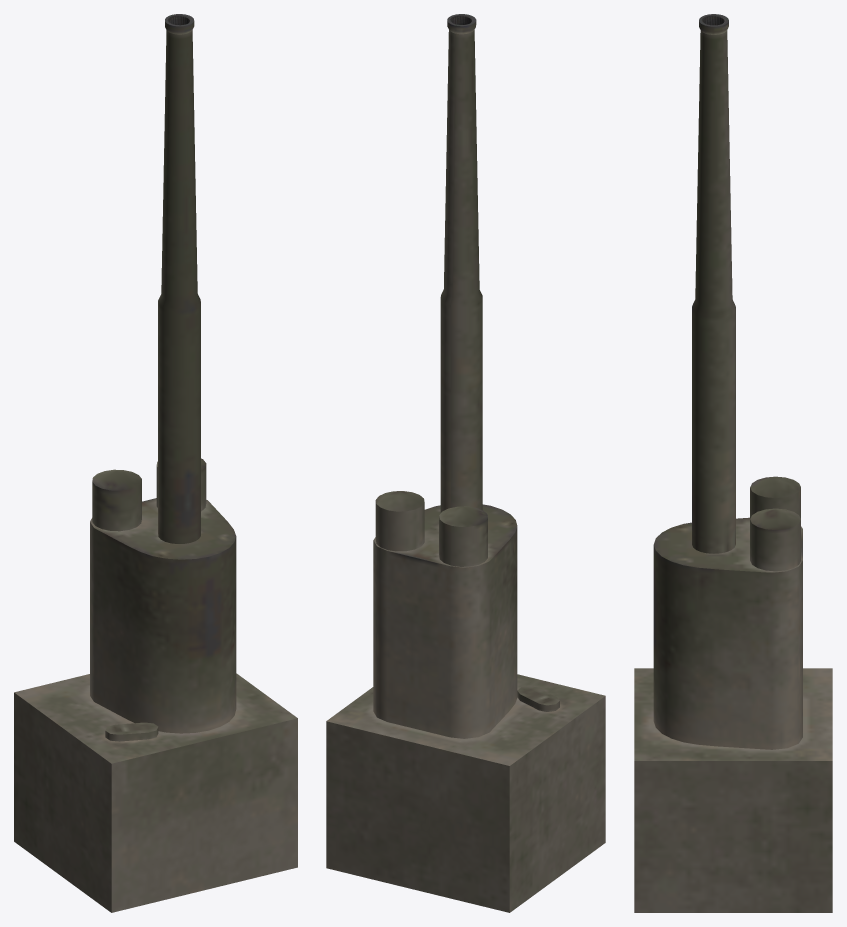
Rendered from Gun_01.glb.
3 renders of one model, left to right at view 1: azimuth 30°, elevation 25°; view 2: azimuth 150°, elevation 25°; view 3: azimuth 270°, elevation 25°, orthographic. The views are drawn at different scales.
Parts seen in each view (by area): view 1: set_0_group_0; view 2: set_0_group_0; view 3: set_0_group_0.
Boxes of the visible parts, left/top/right/bottom form: set_0_group_0: left=14, top=14, right=297, bottom=912; set_0_group_0: left=326, top=14, right=605, bottom=912; set_0_group_0: left=634, top=14, right=832, bottom=912.
Bounding box in the file's own units: 0.4624 × 1.99 × 0.4188.
1 material, 1 textured.
